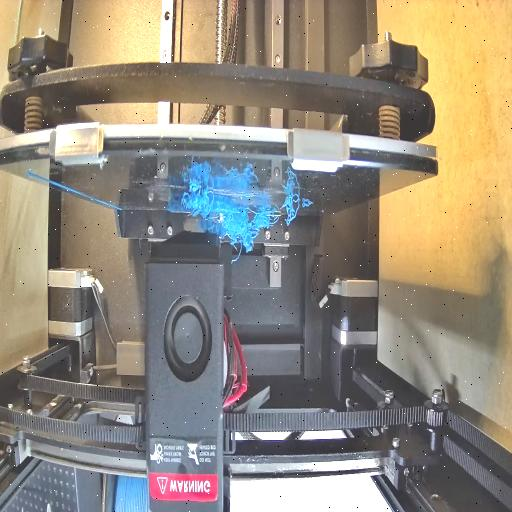spaghetti: (204, 206, 278, 246), (180, 180, 214, 216), (277, 189, 304, 231)
